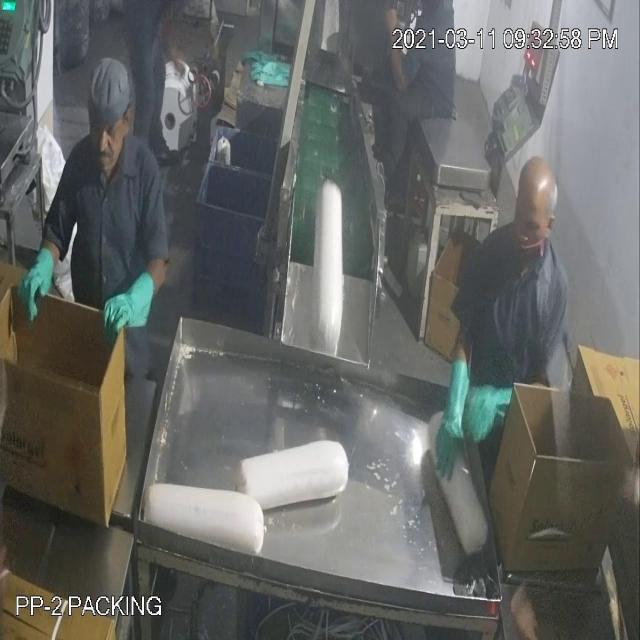Gloves: (38, 88, 455, 414)
